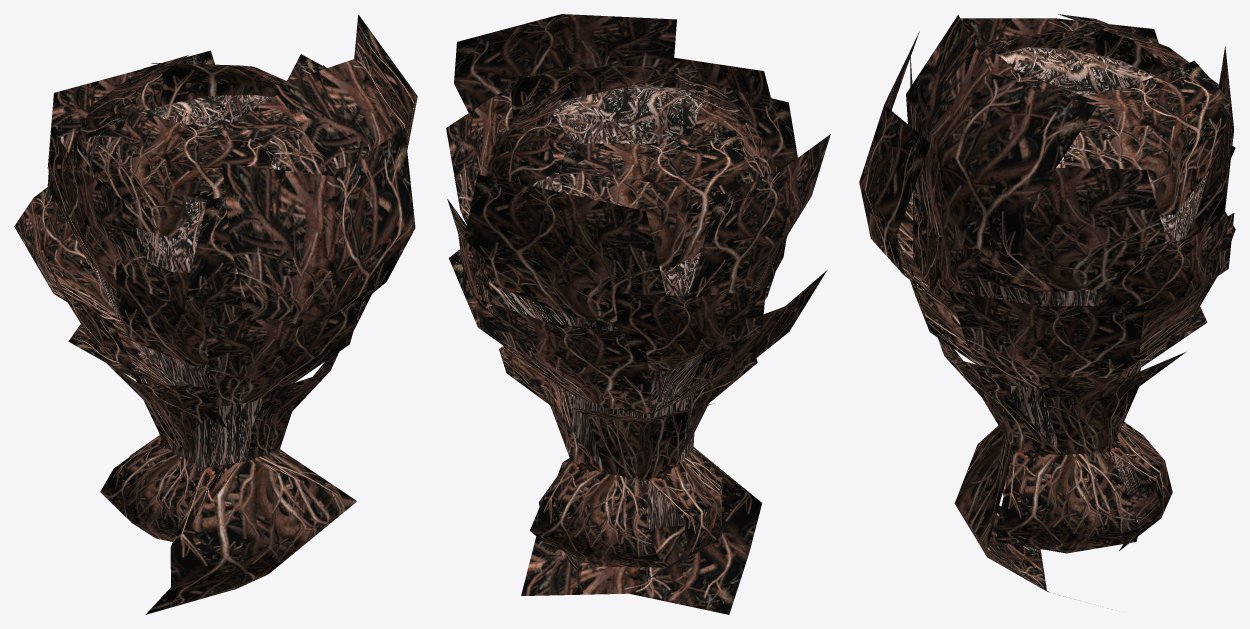
The model's file is poi_all_lair_thicket_small_l0.fbx.
3 renders of one model, left to right at view 1: azimuth 30°, elevation 25°; view 2: azimuth 150°, elevation 25°; view 3: azimuth 270°, elevation 25°, orthographic. The views are drawn at different scales.
Parts seen in each view (by area): view 1: mesh_node; view 2: mesh_node; view 3: mesh_node.
Part boxes in pixels (<box>): mesh_node: <box>14,14,417,614</box>; mesh_node: <box>446,14,830,614</box>; mesh_node: <box>859,14,1235,599</box>.
Bounding box in the file's own units: 2.9 × 4.17 × 2.48.
